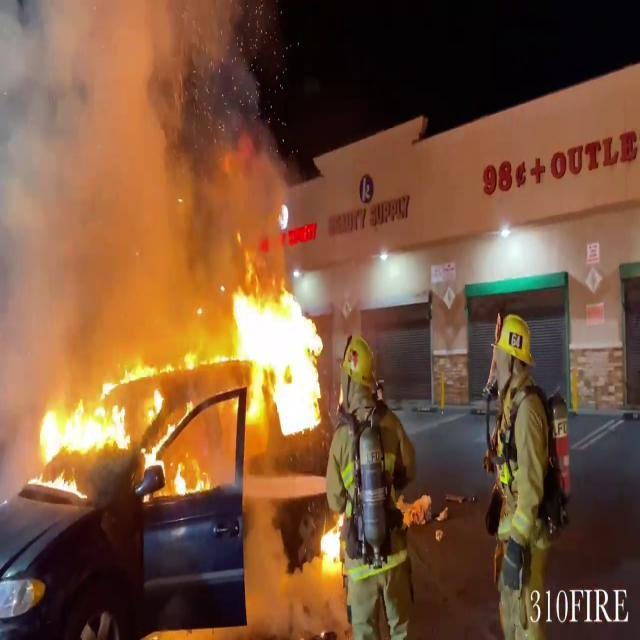Fire: (221, 264, 331, 440), (31, 375, 136, 477), (315, 513, 345, 578)
Smoke: (0, 0, 261, 357)
